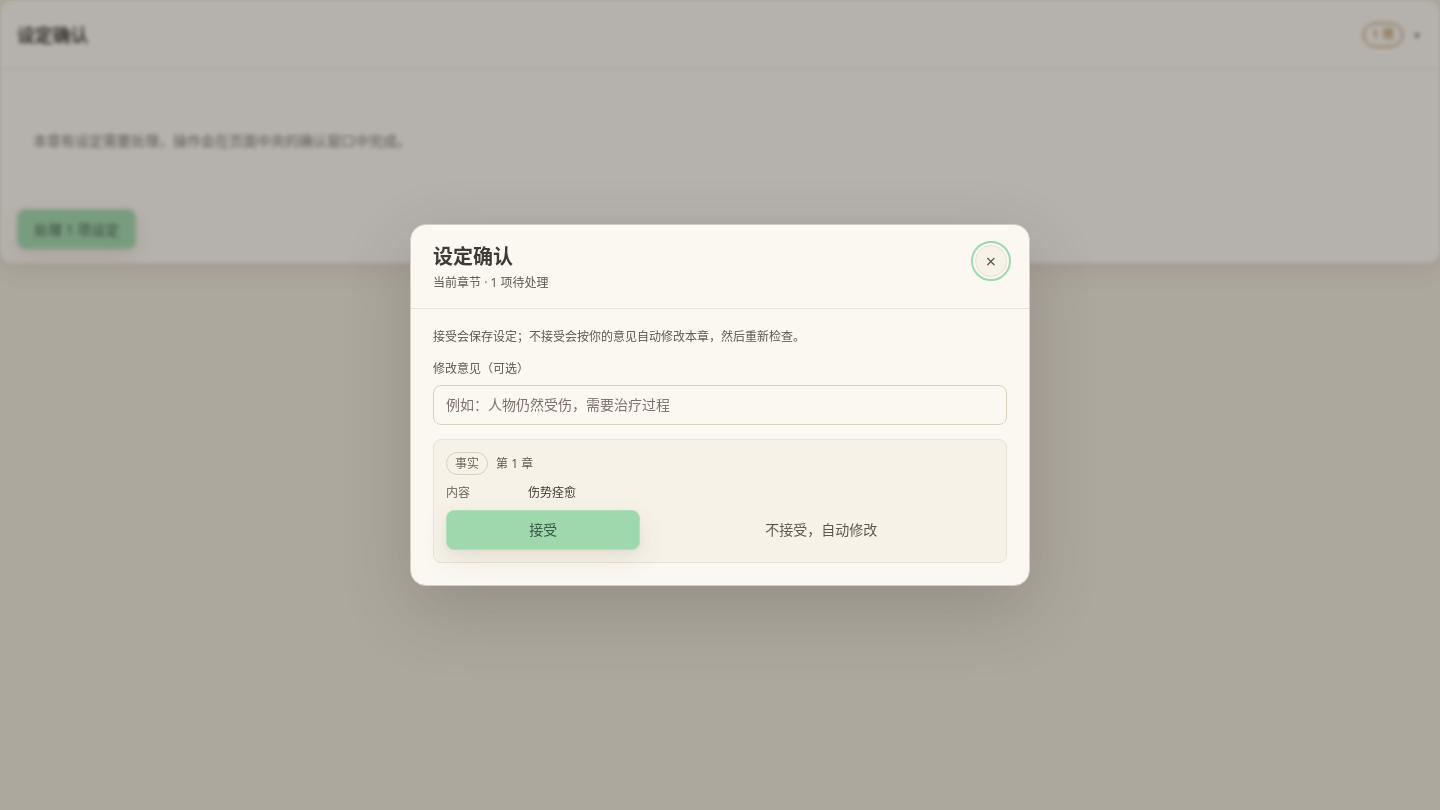
Test: does not reject or restart an older task when the latest chapter task is running
Click the button "不接受，自动修改" at (821,530), box [648,510,994,550]
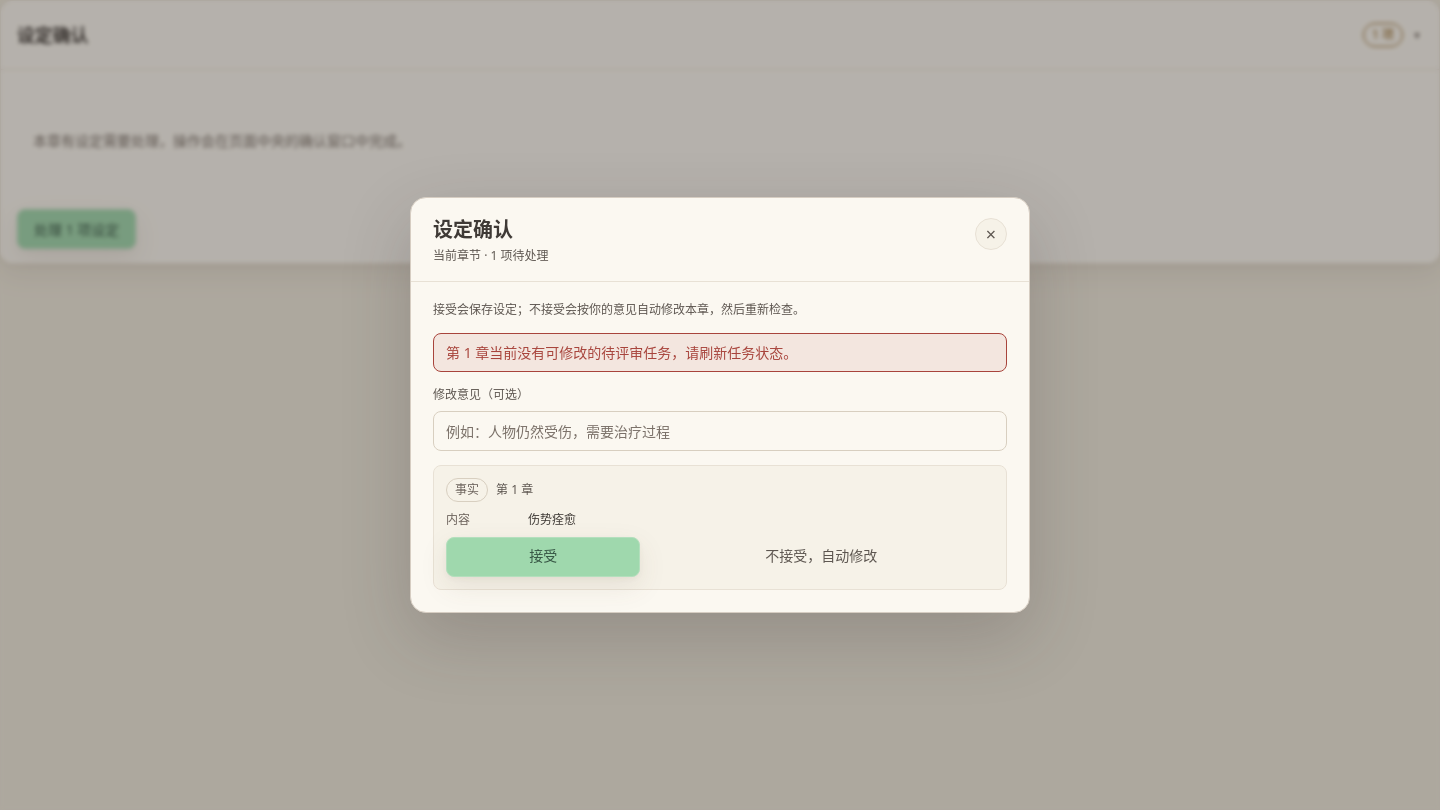
Expected: the text "第 1 章当前没有可修改的待评审任务，请刷新任务状态。" is shown, [433,333,1007,372]
